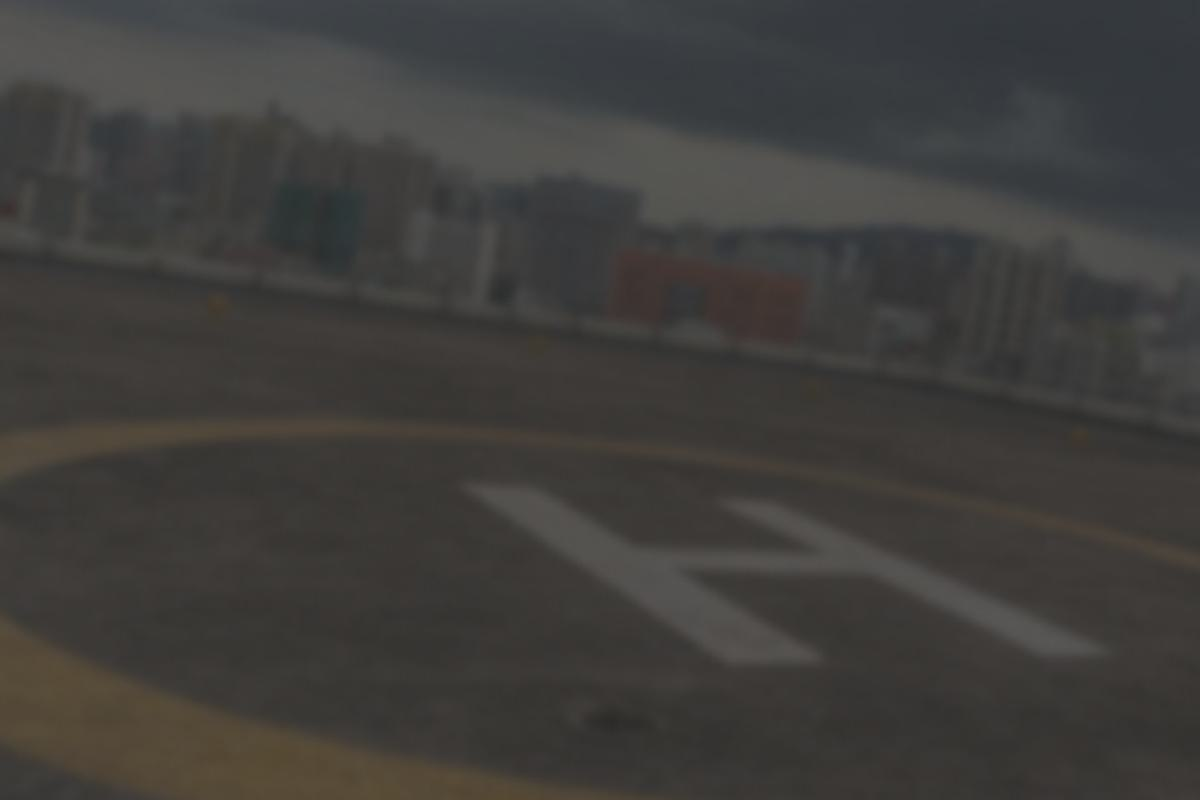Apron: (8, 383, 1200, 800)
